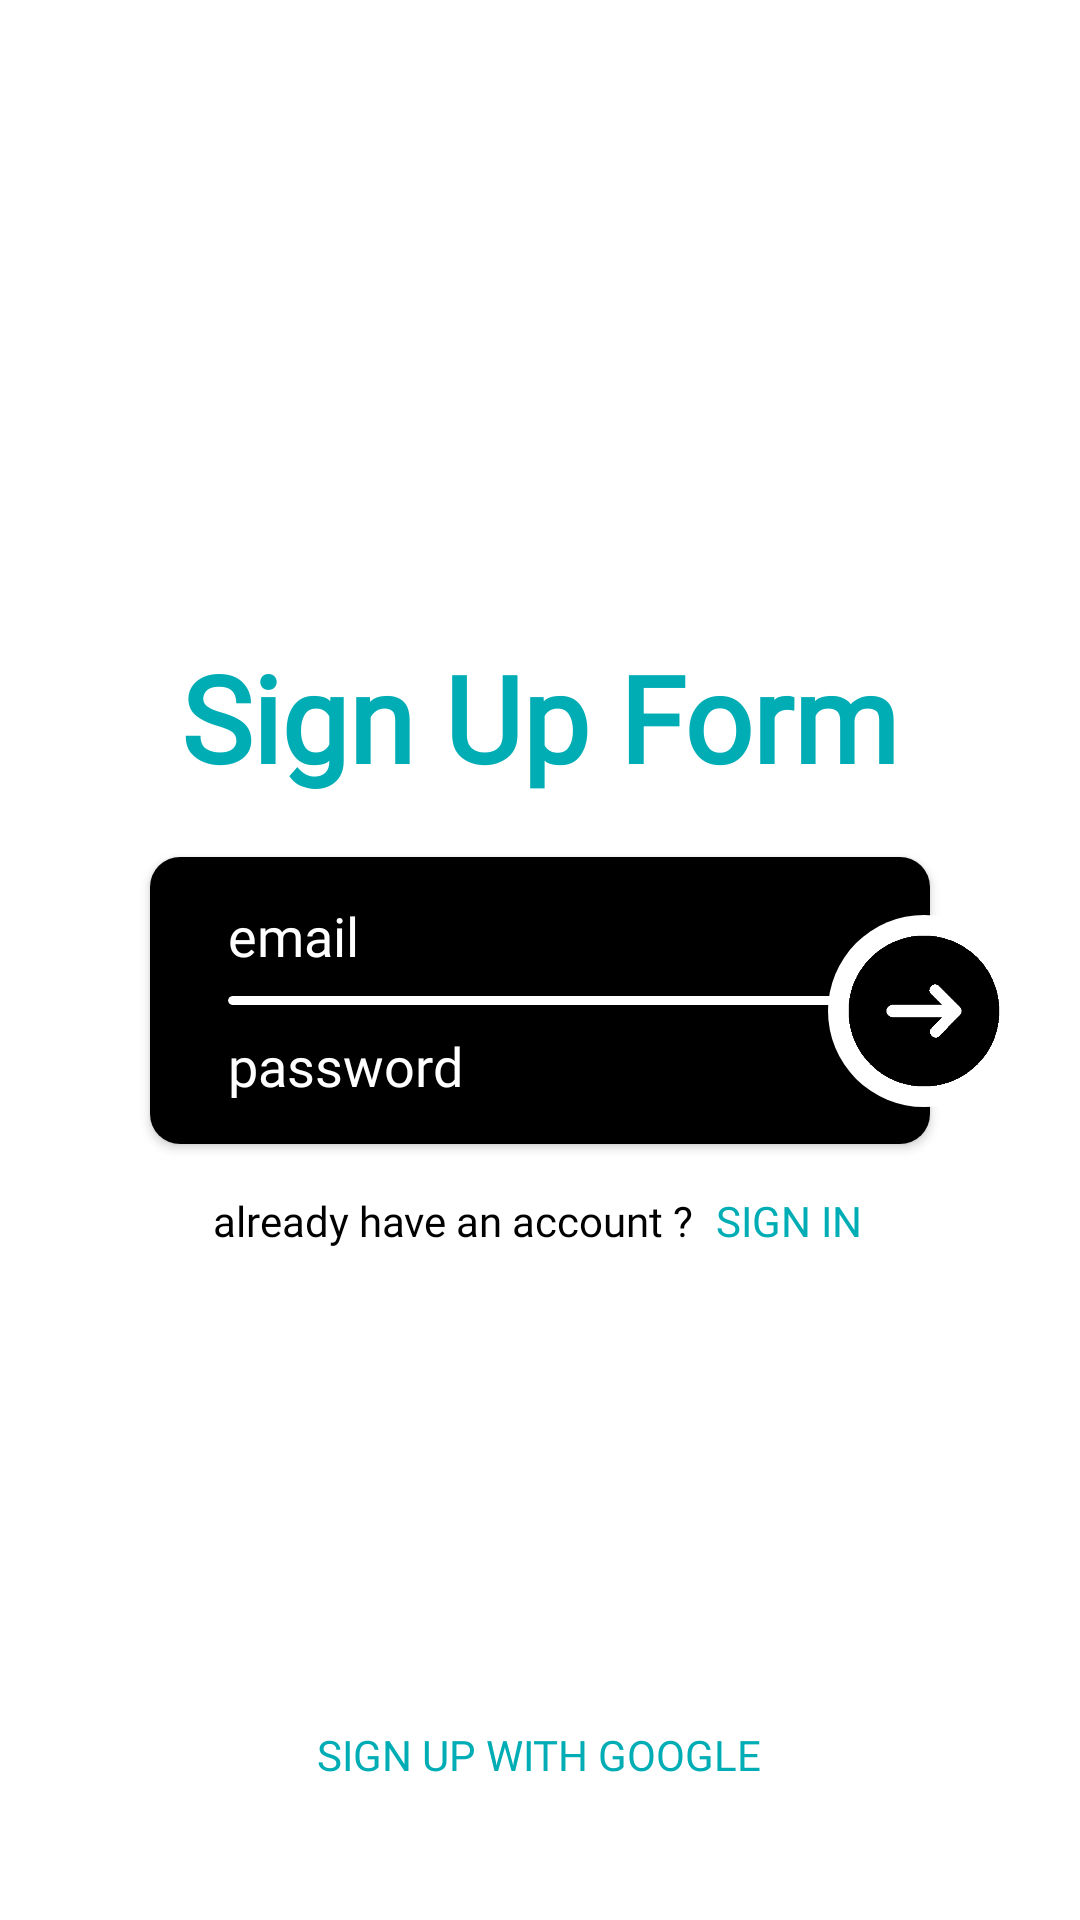

Icon click points for this 1080x1920 phone screenshot, format (x=x, y=y):
arrow right: (x=924, y=1011)
